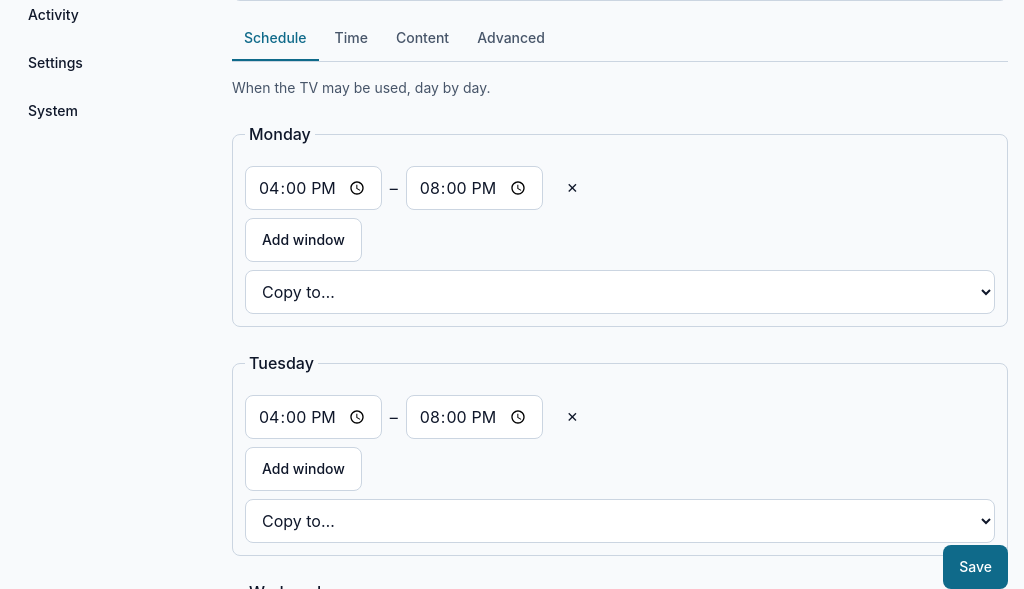
rule editor › saves a weekday budget, an app group and the rollover
The image size is (1024, 589).
Click the tab "Time" at [351, 39], box [323,17,380,61]
(page scrolled)
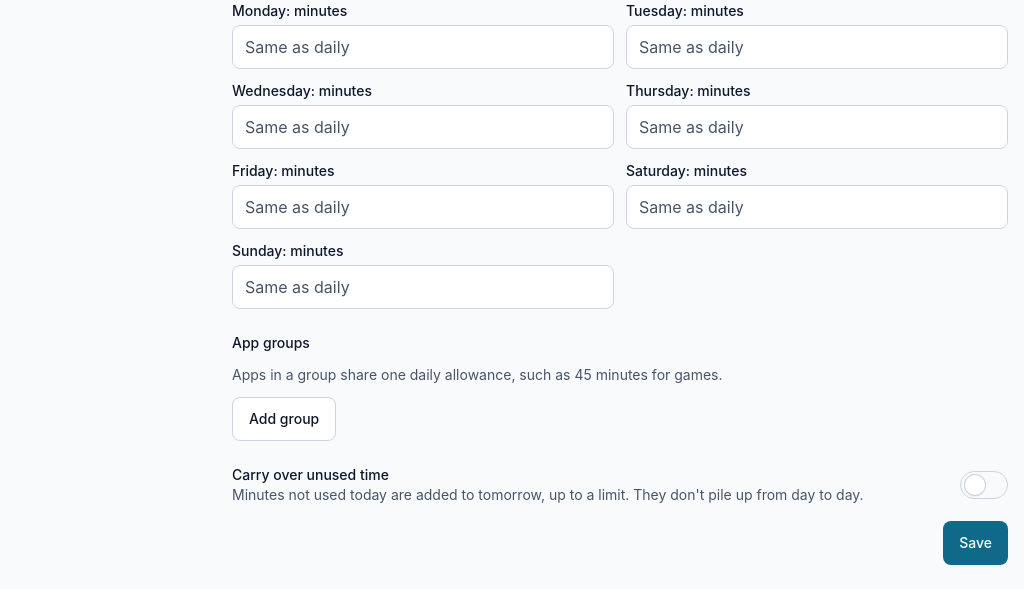
Type "180" into the number field labelled "Saturday: minutes" at [817, 207], box [626,185,1008,229]
Click the button "Add group" at [284, 419], box [232,397,336,441]
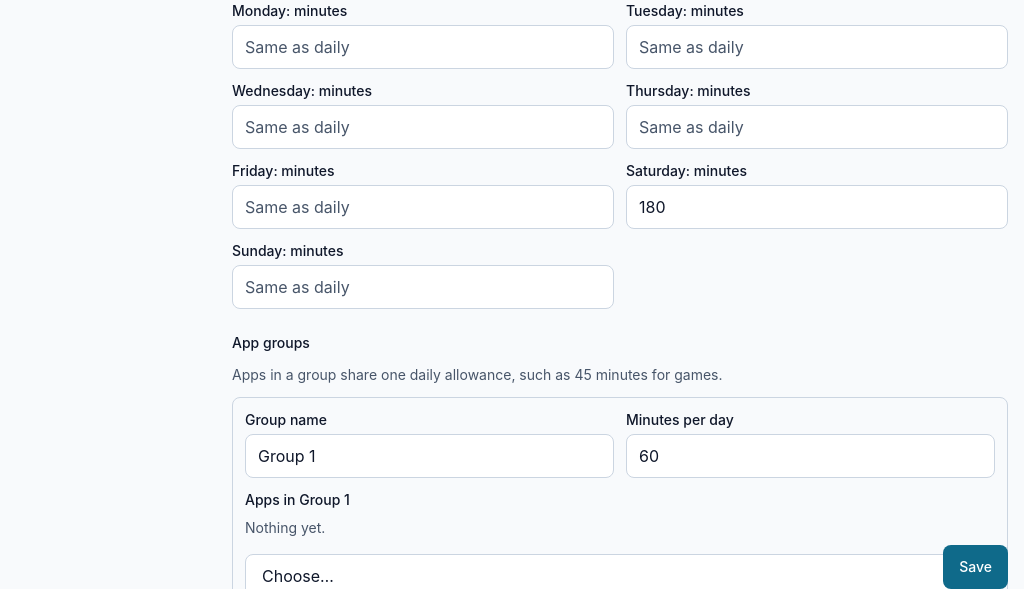
Replace the text in the number field labelled "Minutes per day" with "45" at [810, 456], box [626,434,995,478]
(page scrolled)
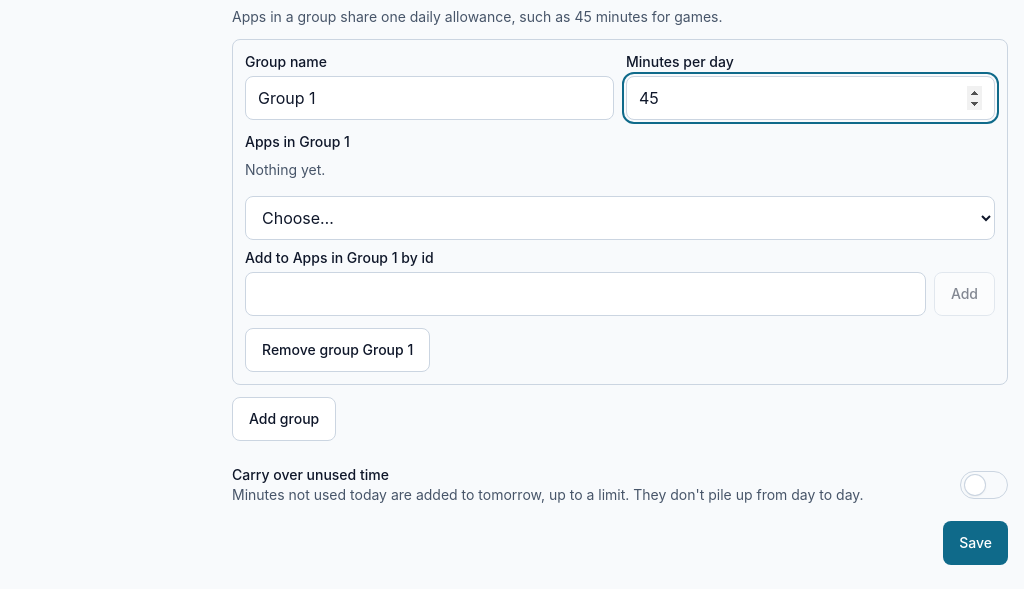
Select "YouTube" in the dropdown named "Add to Apps in Group 1" at [620, 218], box [245,196,995,240]
(page scrolled)
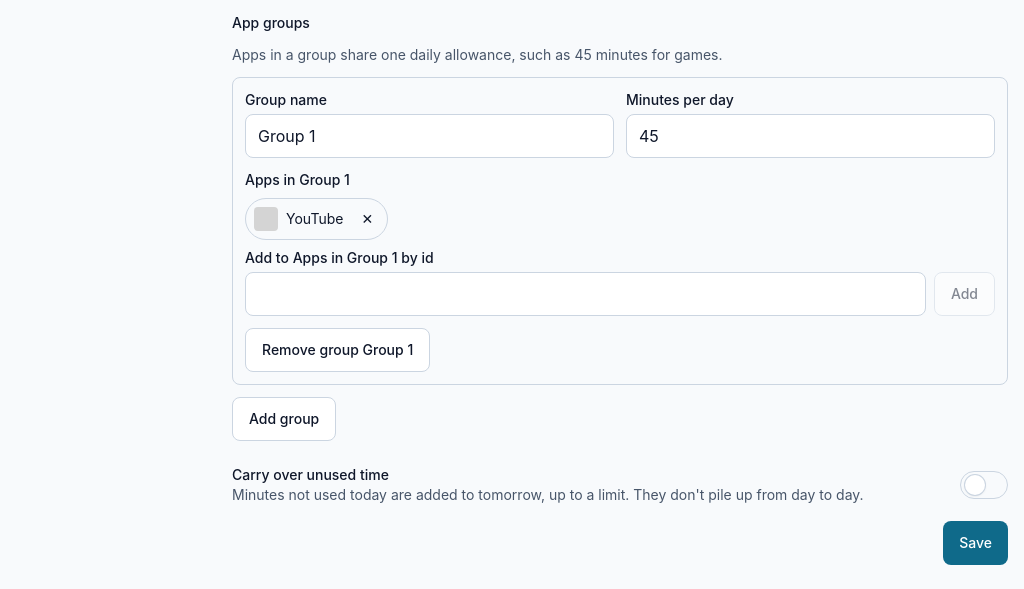
Click the switch named "Carry over unused time" at [984, 485], box [960,471,1008,499]
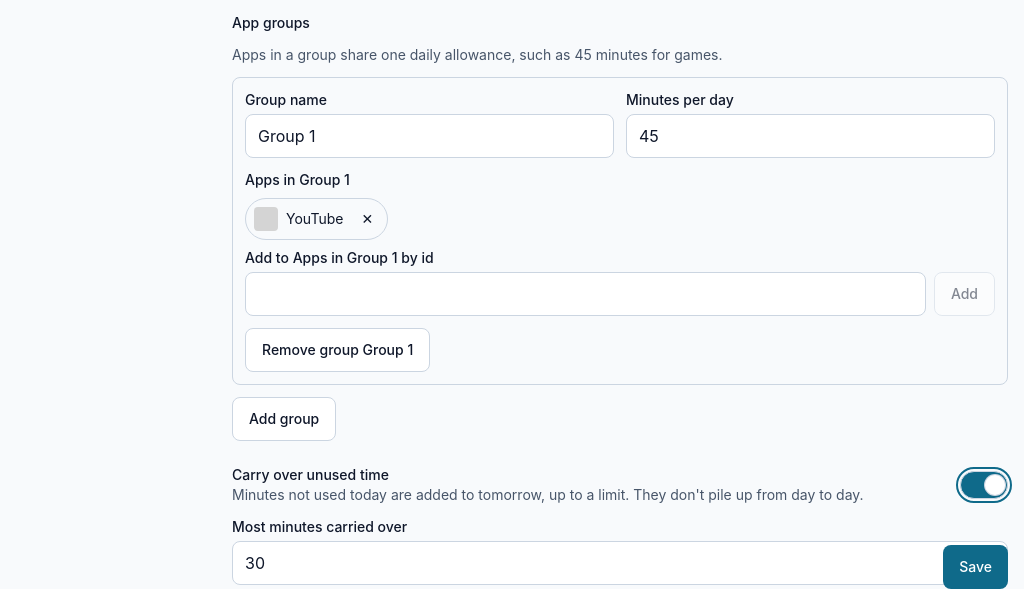
Click the button "Save" at [976, 567], box [943,545,1008,588]
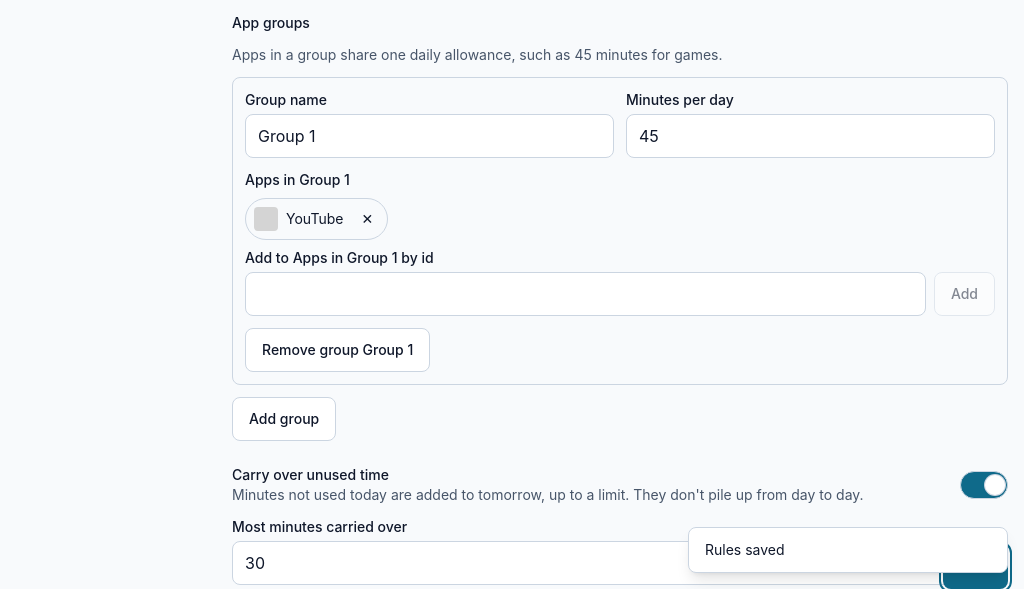
Now the text "Rules saved" is shown, box [688,527,1008,573]
